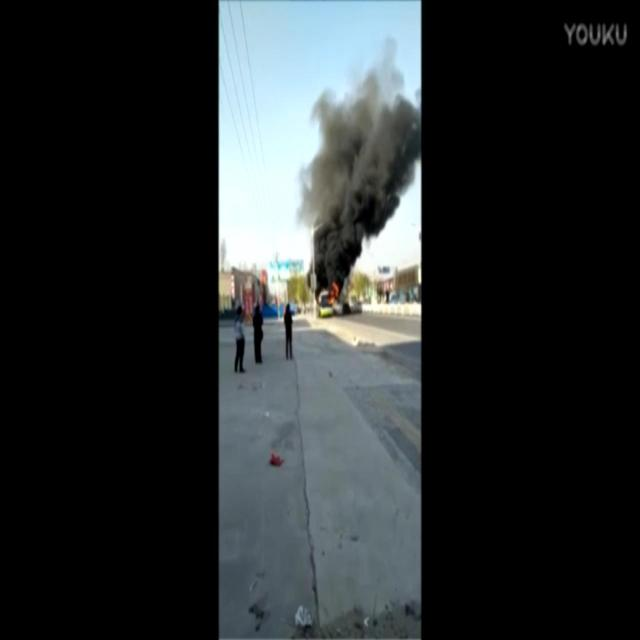fire: (326, 282, 340, 305)
smoke: (299, 38, 417, 282)
